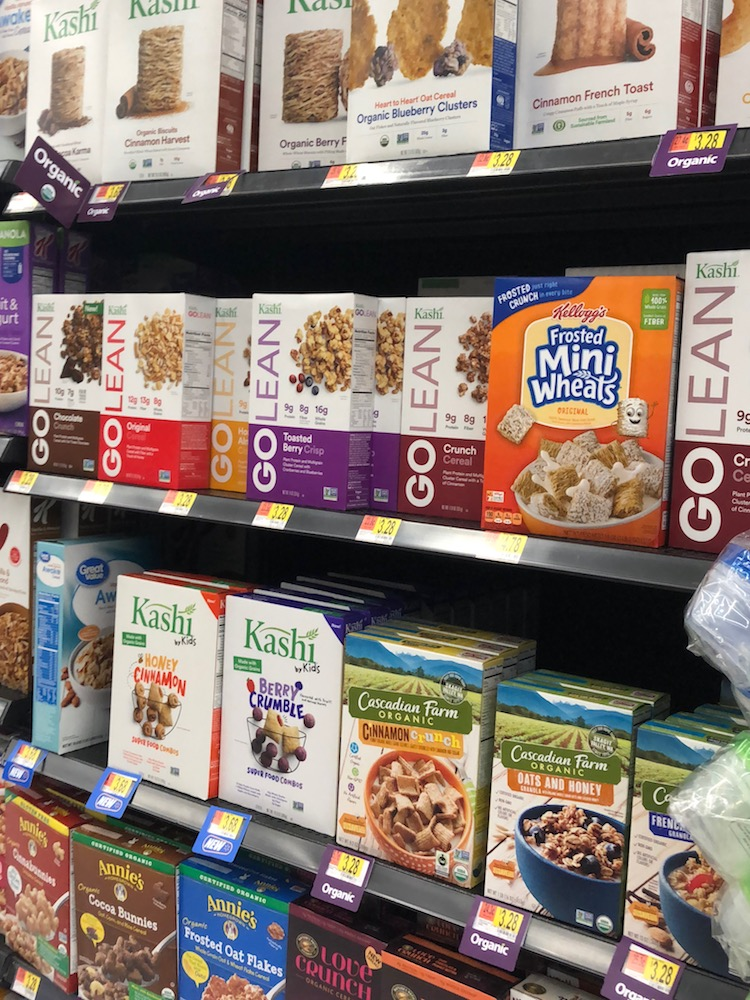Frosted Mini Original -9295869: (487, 289, 662, 552)
